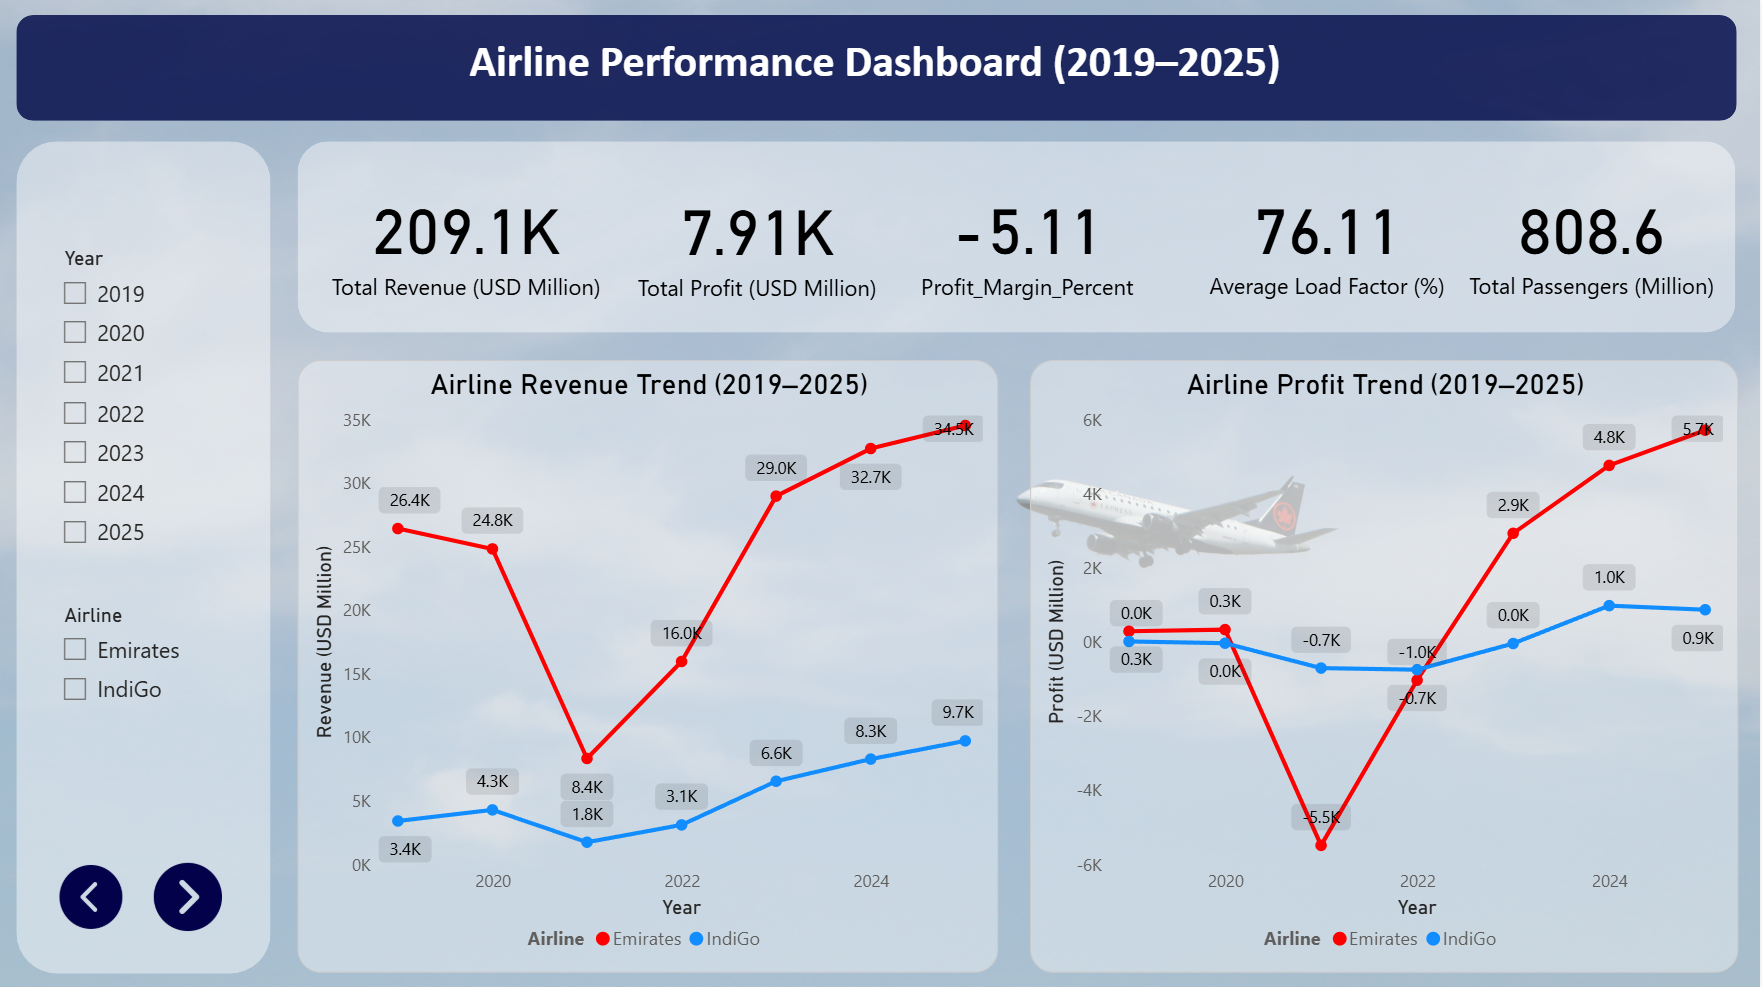

What the dashboard file says about the page in this screenshot:
{"tool":"powerbi","page":{"name":"Industry Trends","canvas":[1280,720],"ordinal":0},"visuals":[{"type":"shape","box":[12.2,10.8,1251.4,77],"z":0},{"type":"shape","box":[216.2,102.7,1045.9,139.2],"z":1000},{"type":"shape","box":[12.2,102.7,185.1,605.4],"z":2000},{"type":"lineChart","title":"Airline Revenue Trend (2019–2025)","fields":{"Category":["Airline_Performance.Year"],"Y":["Sum(Airline_Performance.Revenue_USD_Million)"],"Series":["Airline_Performance.Airline"]},"box":[216.2,262.2,509.5,445.9],"z":3000},{"type":"lineChart","title":"Airline Profit Trend (2019–2025)","fields":{"Category":["Airline_Performance.Year"],"Series":["Airline_Performance.Airline"],"Y":["Sum(Airline_Performance.Profit_USD_Million)"]},"box":[748.6,262.2,514.9,445.9],"z":4000},{"type":"slicer","fields":{"Values":["Airline_Performance.Year"]},"box":[33.8,174.3,117.6,243.2],"z":5000},{"type":"card","fields":{"Values":["Sum(Airline_Performance.Revenue_USD_Million)"]},"box":[218.4,96,241.9,156.8],"z":6000},{"type":"card","fields":{"Values":["Sum(Airline_Performance.Profit_USD_Million)"]},"box":[413.5,100,274.3,150],"z":7000},{"type":"card","fields":{"Values":["Avg(Airline_Performance.Load_Factor_Percent)"]},"box":[827.9,99.4,274.3,150],"z":8000},{"type":"card","fields":{"Values":["Avg(Airline_Performance.Profit_Margin_Percent)"]},"box":[600.4,100.8,294.6,147.3],"z":9000},{"type":"slicer","fields":{"Values":["Airline_Performance.Airline"]},"box":[33.8,433.8,117.6,95.9],"z":10000},{"type":"textbox","box":[336.5,20.3,608.1,78.4],"z":11000},{"type":"image","box":[34.9,623,63,59],"z":12000},{"type":"image","box":[105.4,623,62.2,59.5],"z":13000},{"type":"card","fields":{"Values":["Sum(Airline_Performance.Passengers_Million)"]},"box":[1035.1,99.4,244.6,150],"z":14000}]}

Visuals, with their boxes in screenshot pixels (x1, y1, x2, y2), scaled from the page's 1280x720 canvas onto the 1762x987 screenshot:
shape: <region>17, 15, 1739, 120</region>
shape: <region>298, 141, 1737, 332</region>
shape: <region>17, 141, 272, 971</region>
"Airline Revenue Trend (2019–2025)" lineChart: <region>298, 359, 999, 971</region>
"Airline Profit Trend (2019–2025)" lineChart: <region>1030, 359, 1739, 971</region>
slicer - Airline_Performance.Year: <region>47, 239, 208, 572</region>
card - Sum(Airline_Performance.Revenue_USD_Million): <region>301, 132, 634, 347</region>
card - Sum(Airline_Performance.Profit_USD_Million): <region>569, 137, 947, 343</region>
card - Avg(Airline_Performance.Load_Factor_Percent): <region>1140, 136, 1517, 342</region>
card - Avg(Airline_Performance.Profit_Margin_Percent): <region>826, 138, 1232, 340</region>
slicer - Airline_Performance.Airline: <region>47, 595, 208, 726</region>
textbox: <region>463, 28, 1300, 135</region>
image: <region>48, 854, 135, 935</region>
image: <region>145, 854, 231, 936</region>
card - Sum(Airline_Performance.Passengers_Million): <region>1425, 136, 1761, 342</region>
